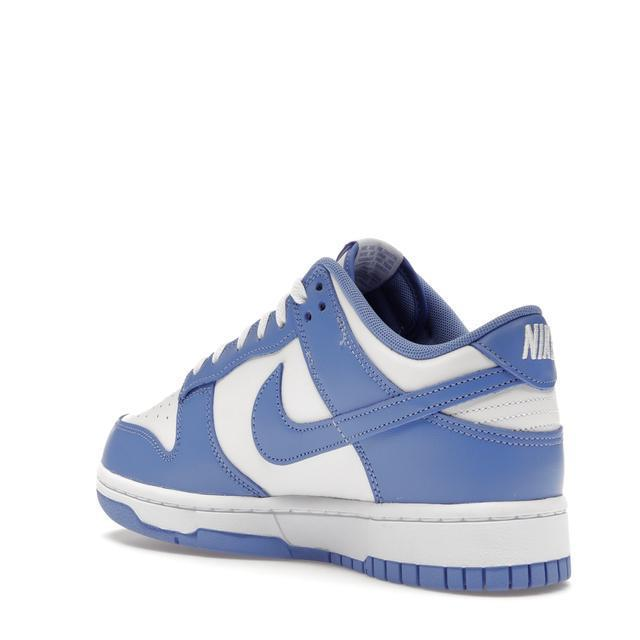J1_InsoleChar: (93, 235, 574, 596)
J1_StitchPattern: (94, 478, 573, 593), (250, 319, 560, 467), (116, 276, 310, 451), (94, 481, 570, 529), (441, 319, 562, 435), (326, 550, 572, 593), (206, 277, 309, 366), (440, 389, 562, 433), (114, 387, 182, 454), (206, 310, 278, 365), (518, 320, 555, 362)
